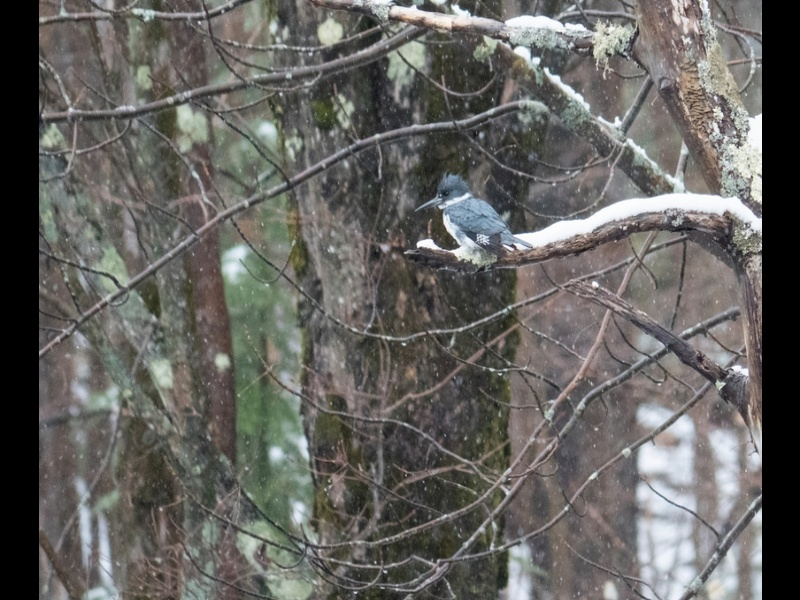kingfisher: (413, 170, 532, 263)
